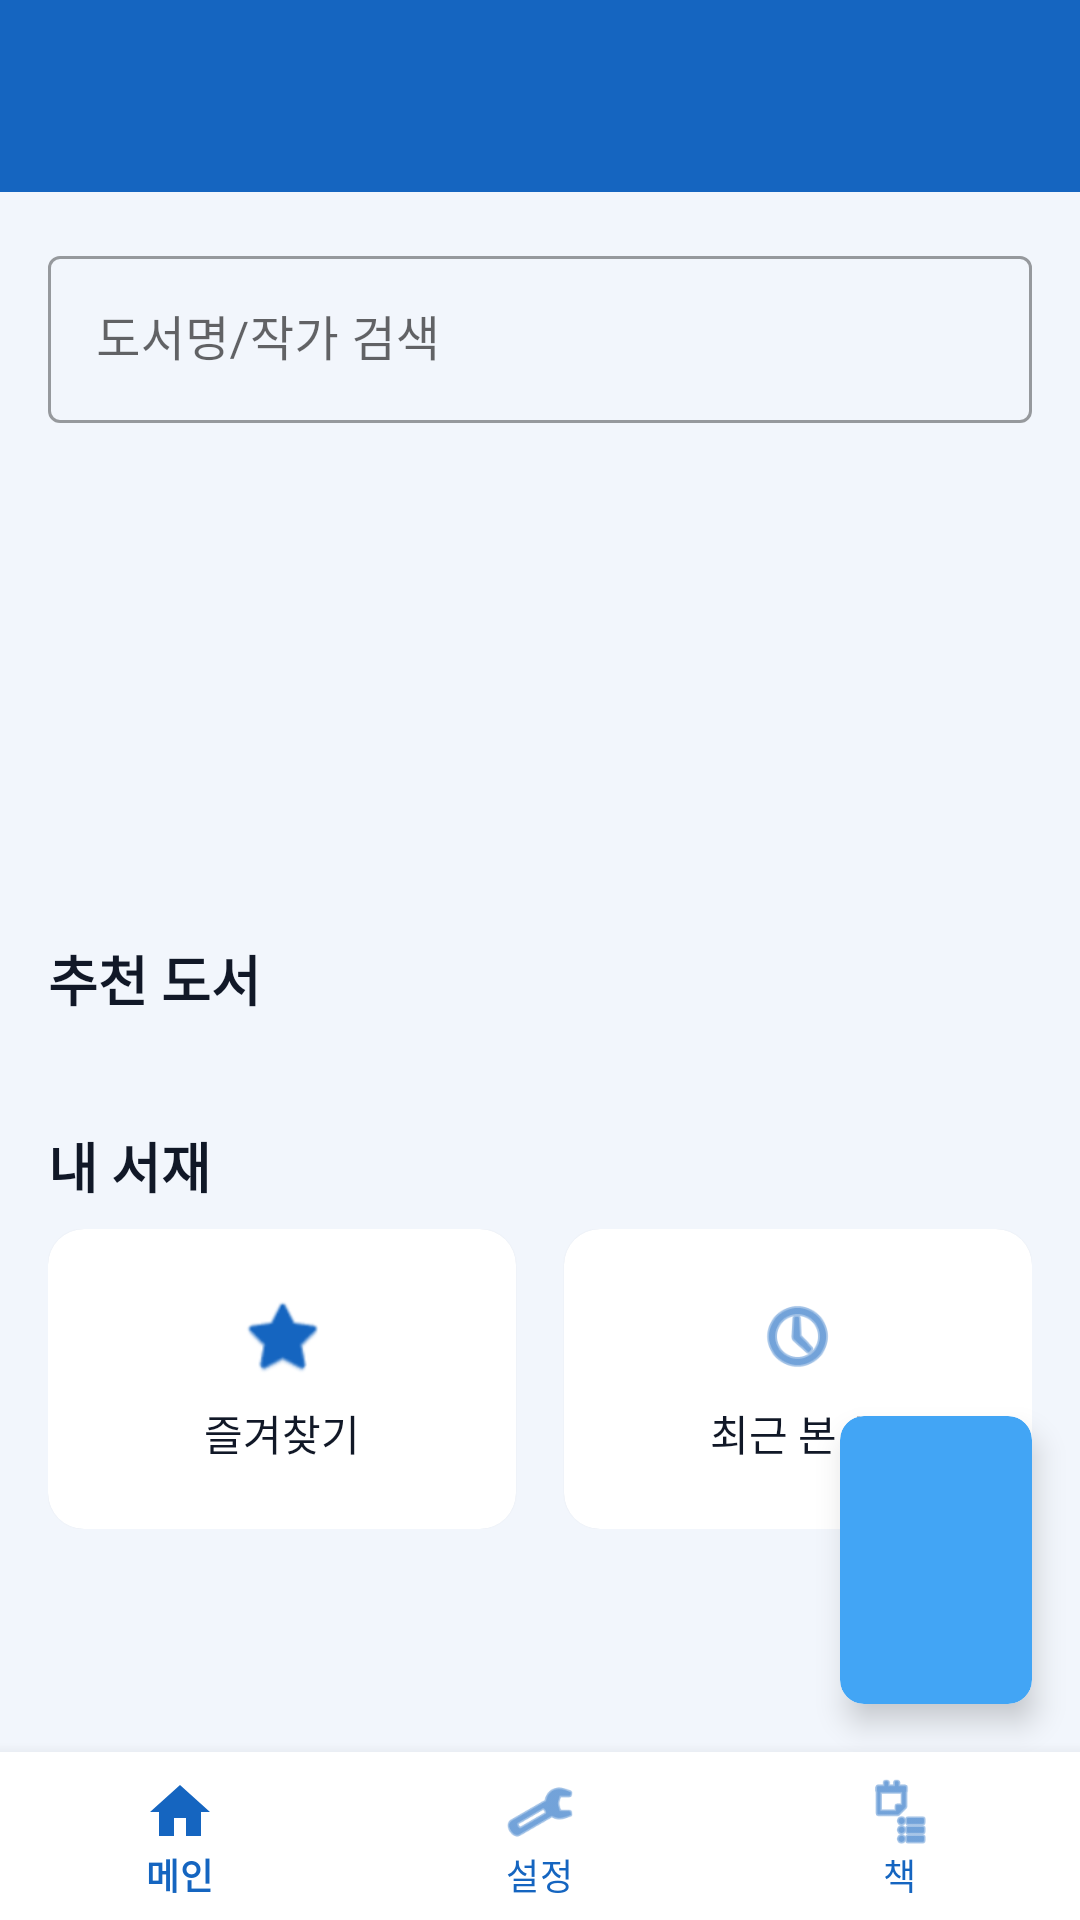

Where icons sit on this 1080w x 1920h app screen, as (x1, y1, x2, y2):
recent history: (767, 1306, 828, 1367)
star on: (248, 1303, 318, 1371)
